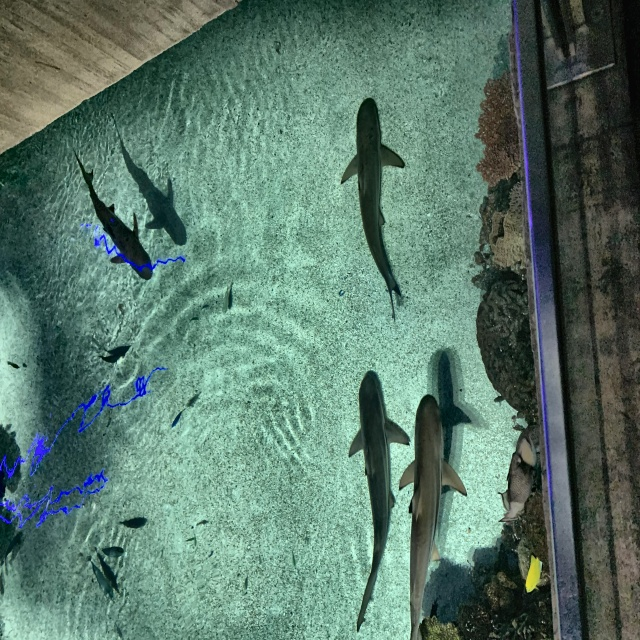fish: (83, 553, 116, 605), (521, 552, 544, 593), (224, 276, 243, 322), (99, 349, 129, 371), (96, 538, 127, 558), (169, 408, 187, 432)
shark: (346, 362, 411, 634), (398, 396, 470, 638), (339, 97, 406, 310), (72, 149, 153, 281)
